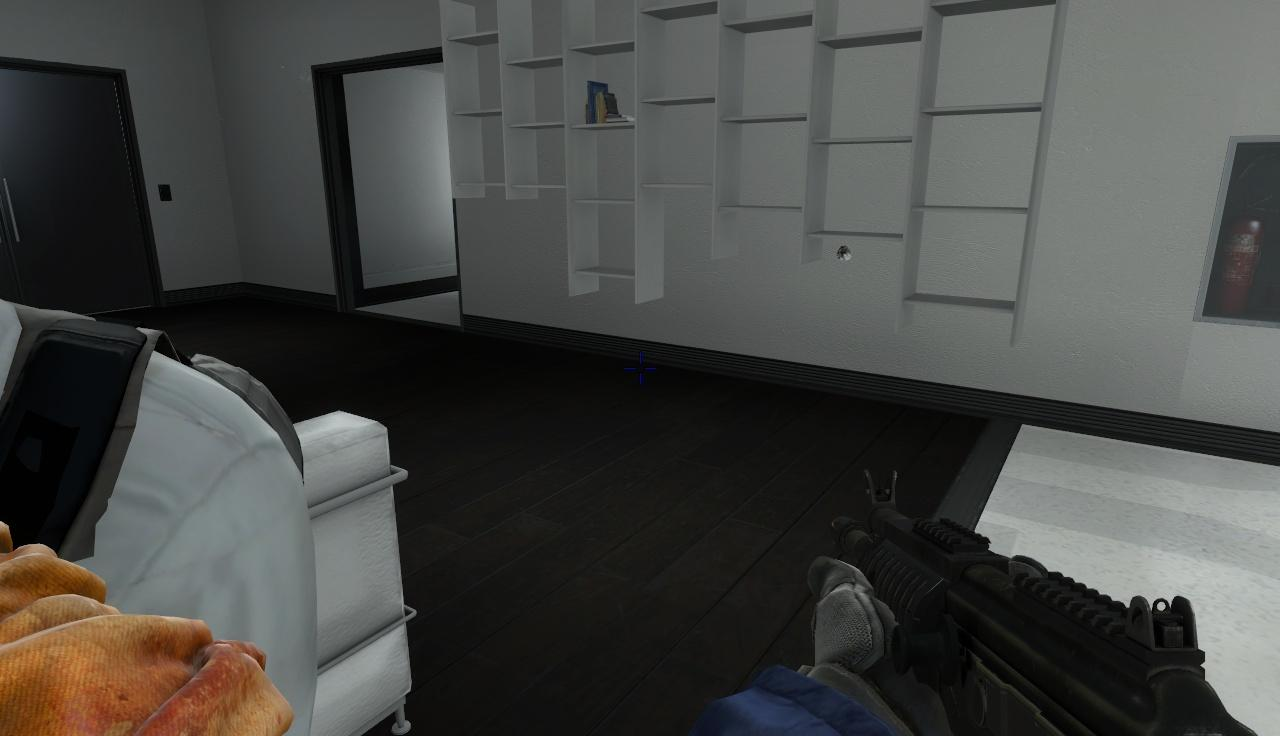rifle: (802, 475, 1280, 736)
tt: (0, 298, 305, 620)
